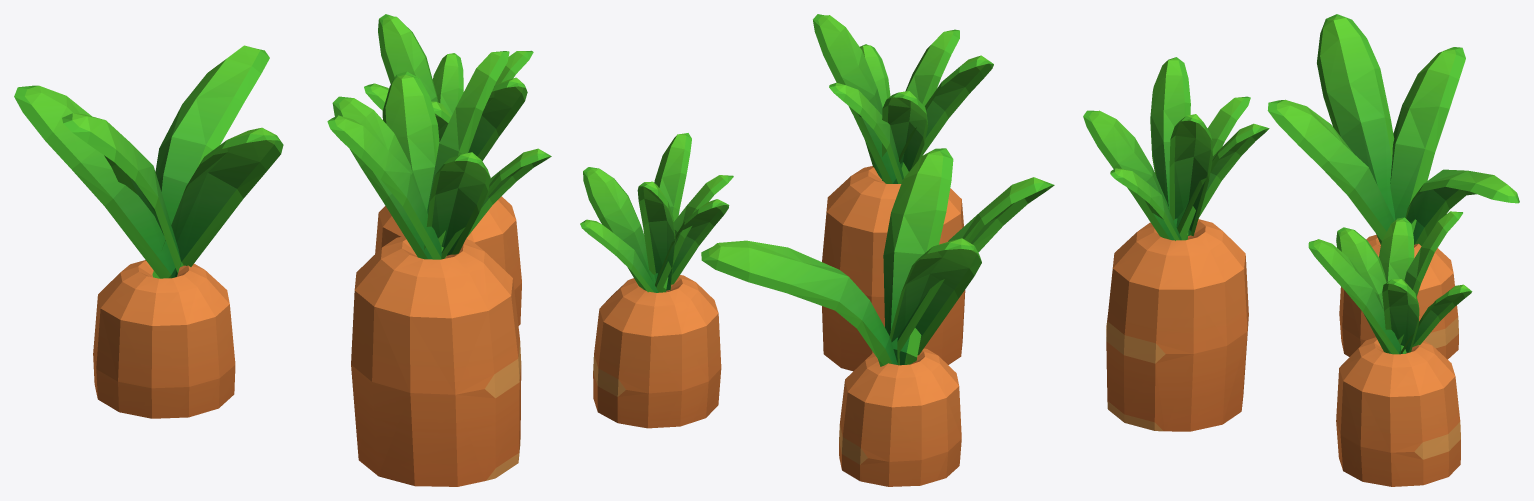
Rendered from crop_carrot_stage3.glb.
3 views of the same model, side by side, from view 1: azimuth 30°, elevation 25°; view 2: azimuth 150°, elevation 25°; view 3: azimuth 270°, elevation 25° (orthographic). The views are drawn at different scales.
Parts seen in each view (by area): view 1: crop_carrot_stage3; view 2: crop_carrot_stage3; view 3: crop_carrot_stage3.
Part boxes in pixels (box(x1,y1,x2,y2)): crop_carrot_stage3: box(14, 14, 551, 486); crop_carrot_stage3: box(580, 14, 1054, 486); crop_carrot_stage3: box(1083, 14, 1519, 486).
Size of the model in its own units: 0.4653 by 0.33 by 0.4144.
Materials: 1 (1 with a texture image).
